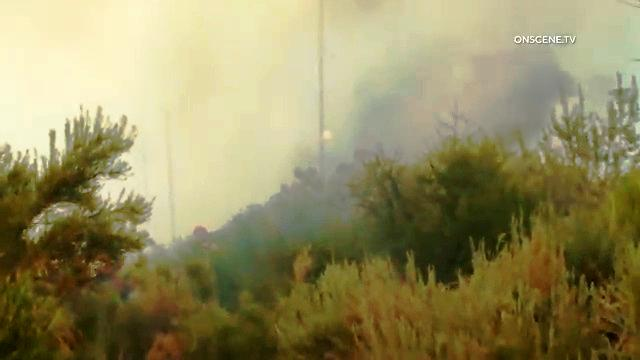smoke: (359, 26, 497, 127)
